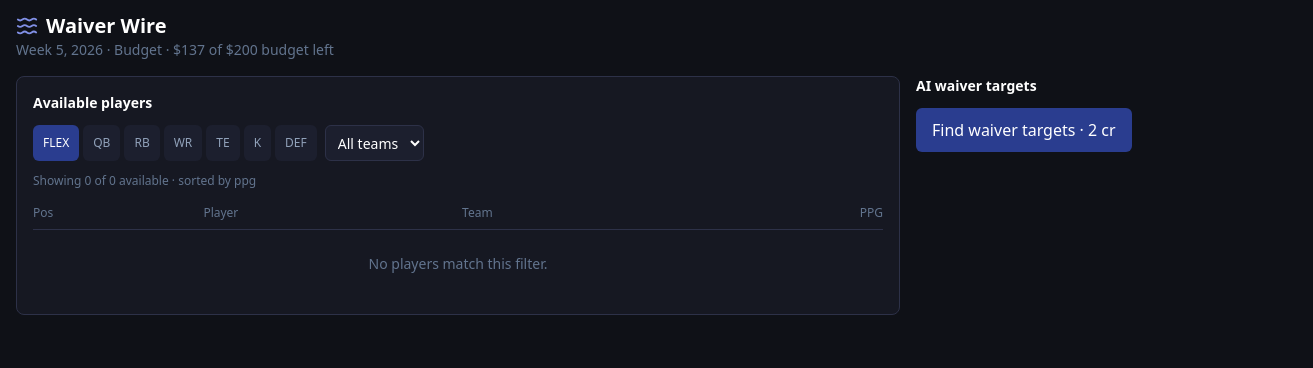
Waiver page — the recommendation panel labels assumed money › the header describes the same league the cards were priced against
Expected: the text "Week 5, 2026 · Budget · $137 of $200 budget left" is shown, [16,40,334,60]
Step 1. Click the button "Find waiver targets · 2 cr" → x=1024, y=130, box [916,108,1132,152]
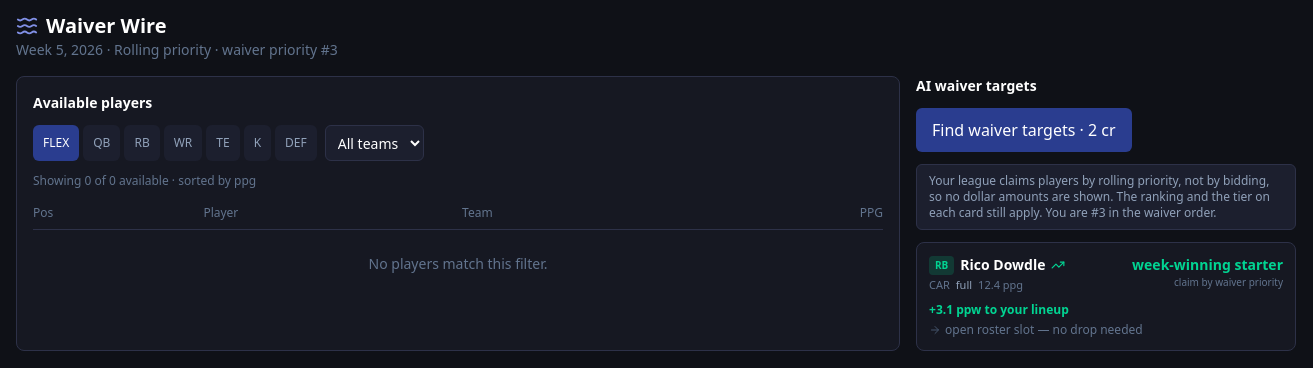
Expected: the text "not by bidding" is shown, [929,172,1270,221]
Expected: the text "$137 of $200 budget left" is gone
Expected: the text "Week 5, 2026 · Rolling priority · waiver priority #3" is shown, [16,40,338,60]
